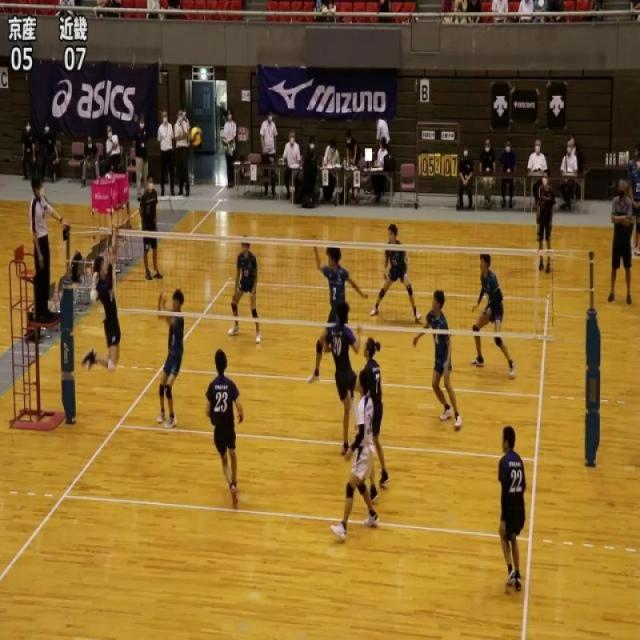volleyball: (190, 124, 202, 148)
